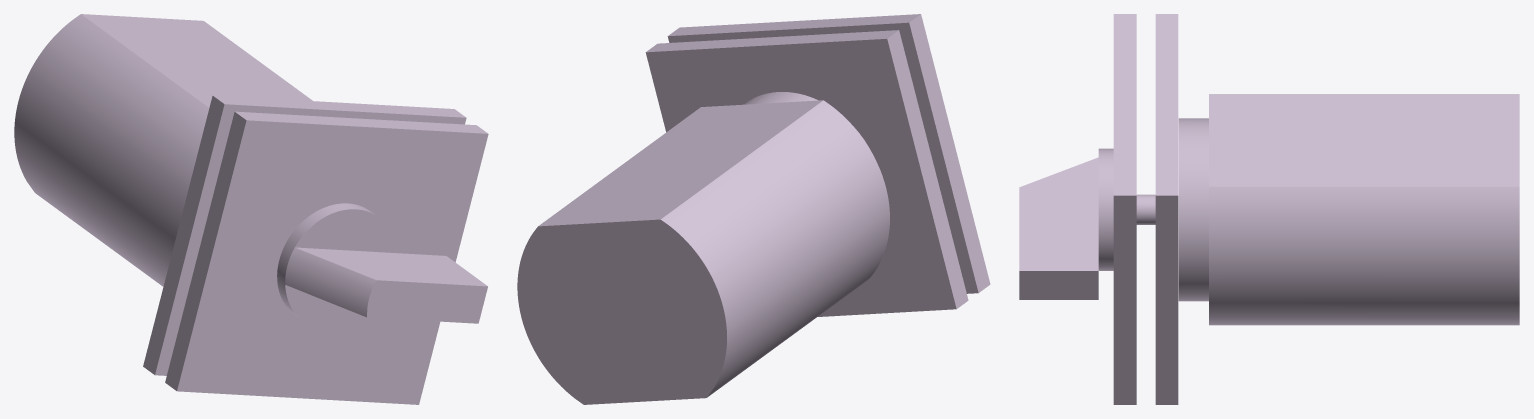
The model's file is POWER ARCHITECTURE__SMARTPLUG INLET SYSTEM__AC rotary switch.glb.
3 views of the same model, side by side, from view 1: azimuth 30°, elevation 25°; view 2: azimuth 150°, elevation 25°; view 3: azimuth 270°, elevation 25° (orthographic). The views are drawn at different scales.
Bounding box in the file's own units: 0.0712 × 0.0713 × 0.1041.
